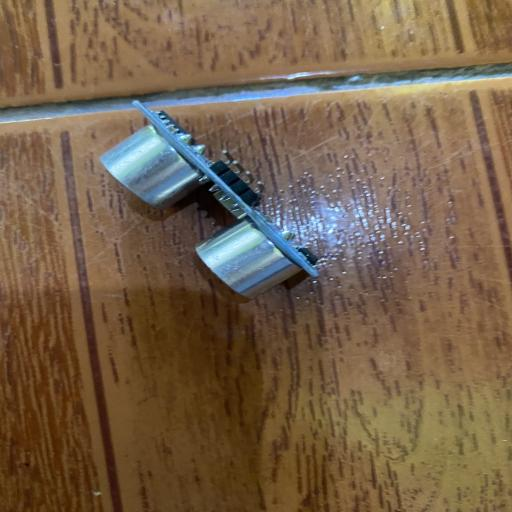Ultrasonic Sensor: (97, 96, 322, 295)
